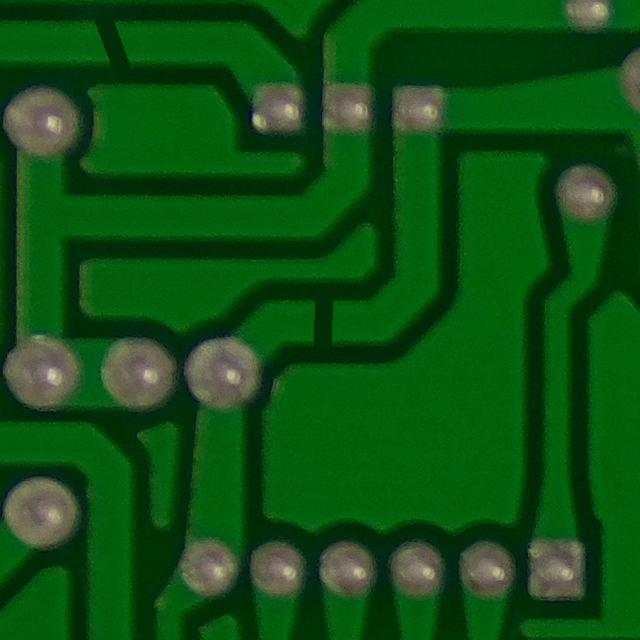open_circuit: (294, 284, 346, 356)
